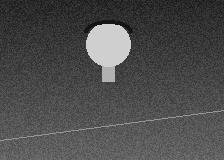no_helmet: (86, 20, 130, 71)
